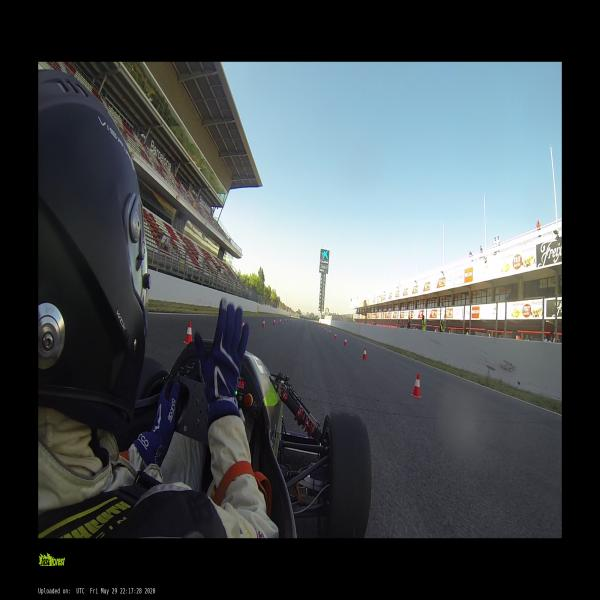orange_cone: (410, 373, 422, 398), (183, 321, 192, 341), (362, 347, 366, 360), (343, 336, 347, 346), (262, 319, 265, 327), (334, 332, 337, 339), (273, 319, 276, 325), (242, 320, 244, 327), (329, 329, 331, 335), (280, 318, 282, 323), (284, 318, 286, 322), (325, 328, 327, 332), (287, 318, 289, 321), (322, 326, 324, 329)
